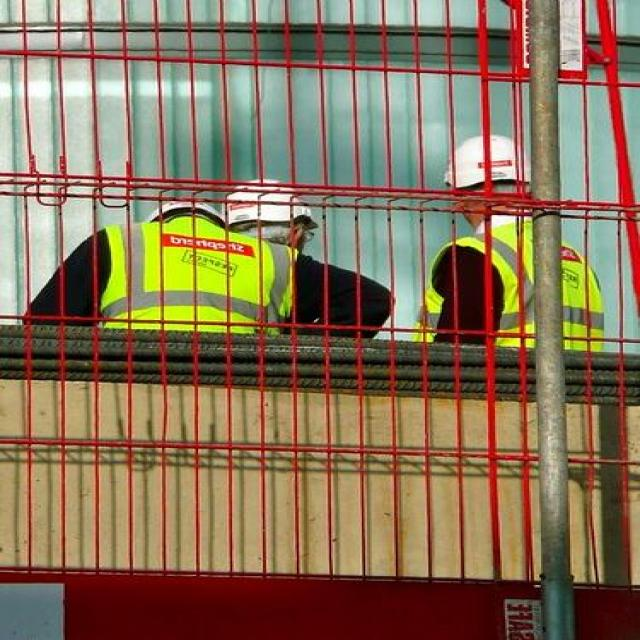Reflective-Jacket: (75, 215, 312, 337), (414, 216, 620, 356)
Safety-Helmet: (434, 128, 550, 198), (210, 183, 329, 246)
